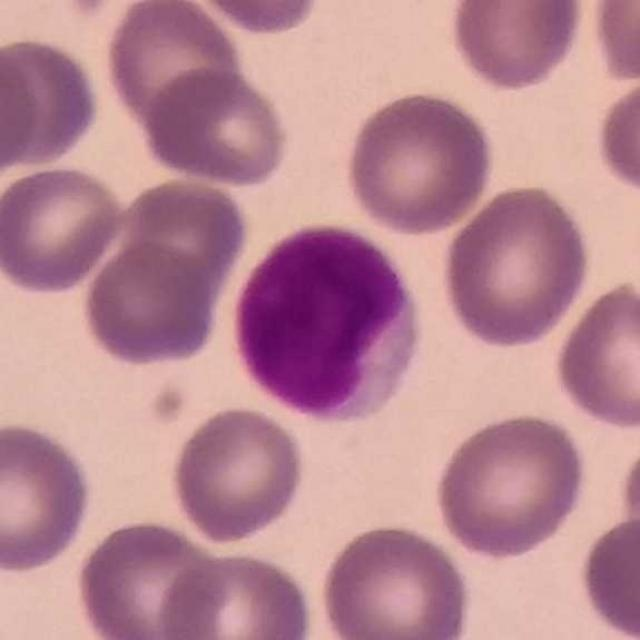Lymphocyte: (225, 216, 428, 427)
RBC: (438, 179, 594, 351), (431, 408, 590, 561), (340, 86, 498, 237), (167, 403, 309, 545), (100, 0, 246, 134), (139, 64, 294, 190), (71, 515, 227, 640), (79, 236, 225, 369), (317, 518, 473, 640), (114, 172, 250, 310), (0, 162, 129, 298), (0, 416, 97, 576), (153, 547, 318, 640), (0, 31, 105, 174), (551, 276, 640, 433), (443, 0, 589, 95), (575, 512, 640, 640), (592, 70, 640, 206), (0, 35, 42, 189), (183, 0, 326, 38), (586, 0, 640, 88), (616, 428, 640, 575)
